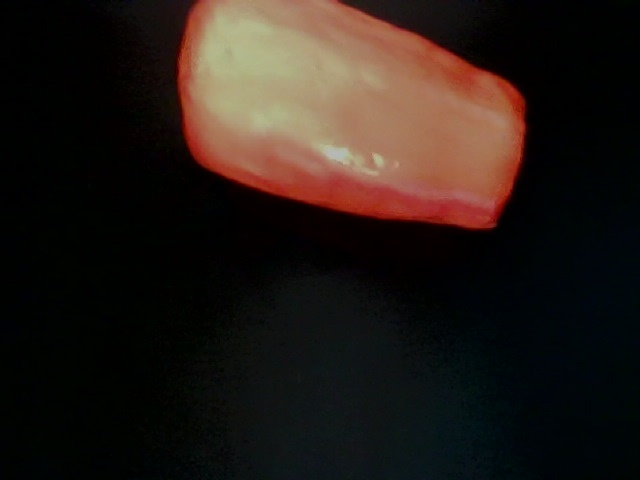YHLJ: (105, 1, 350, 81)
